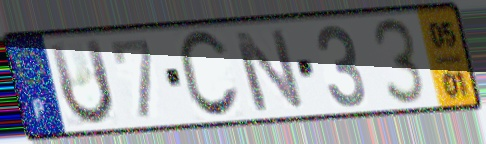3: (371, 15, 428, 108), (315, 22, 367, 110)
7: (106, 36, 157, 122)
C: (175, 27, 243, 122)
N: (228, 27, 308, 115)
U: (45, 35, 117, 129)
